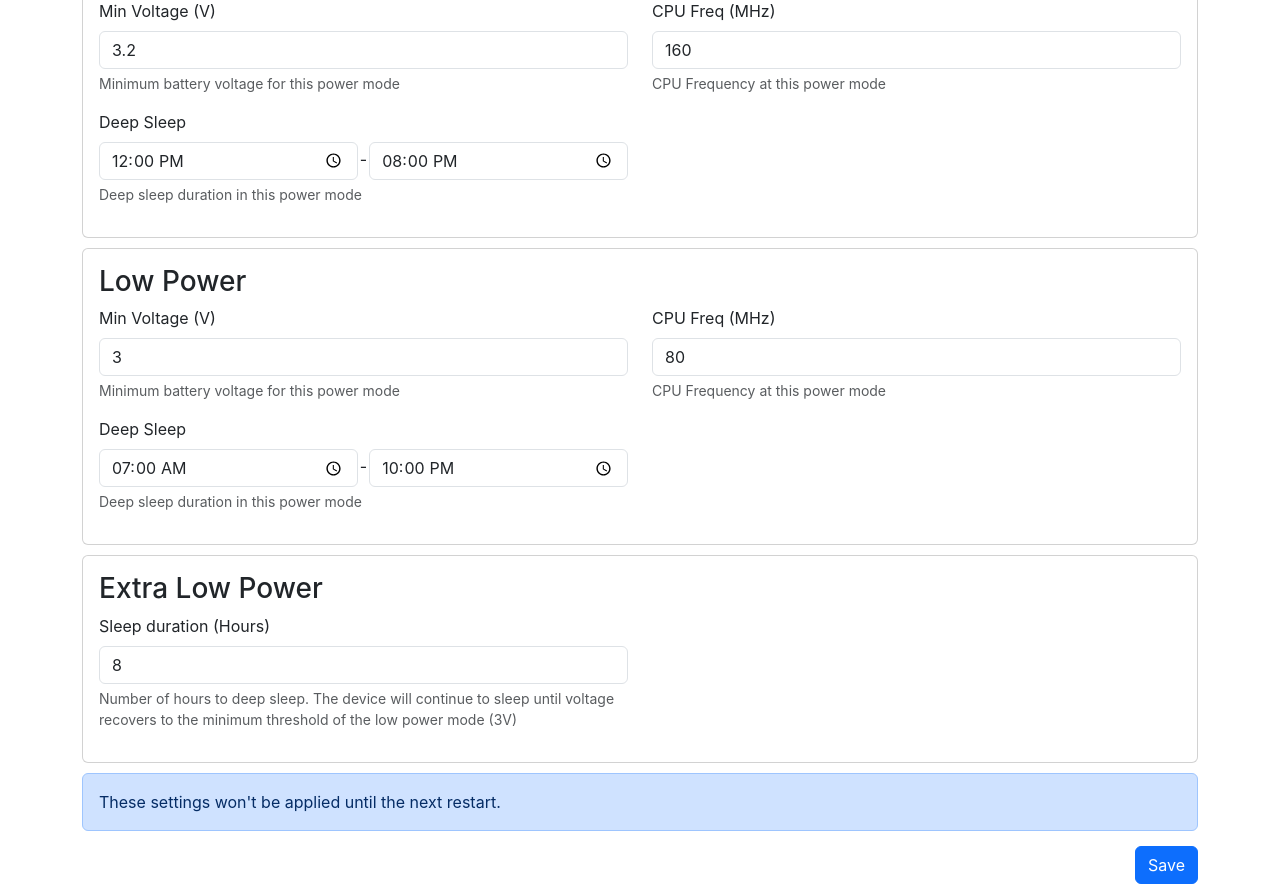
when saving › validation error when incorrect extra low power sleep
The width and height of the screenshot is (1280, 884).
(page scrolled)
Step 1. Clear the number field with test id "ex-low-power-sleep-duration" → (364, 665), box [99,646,628,684]
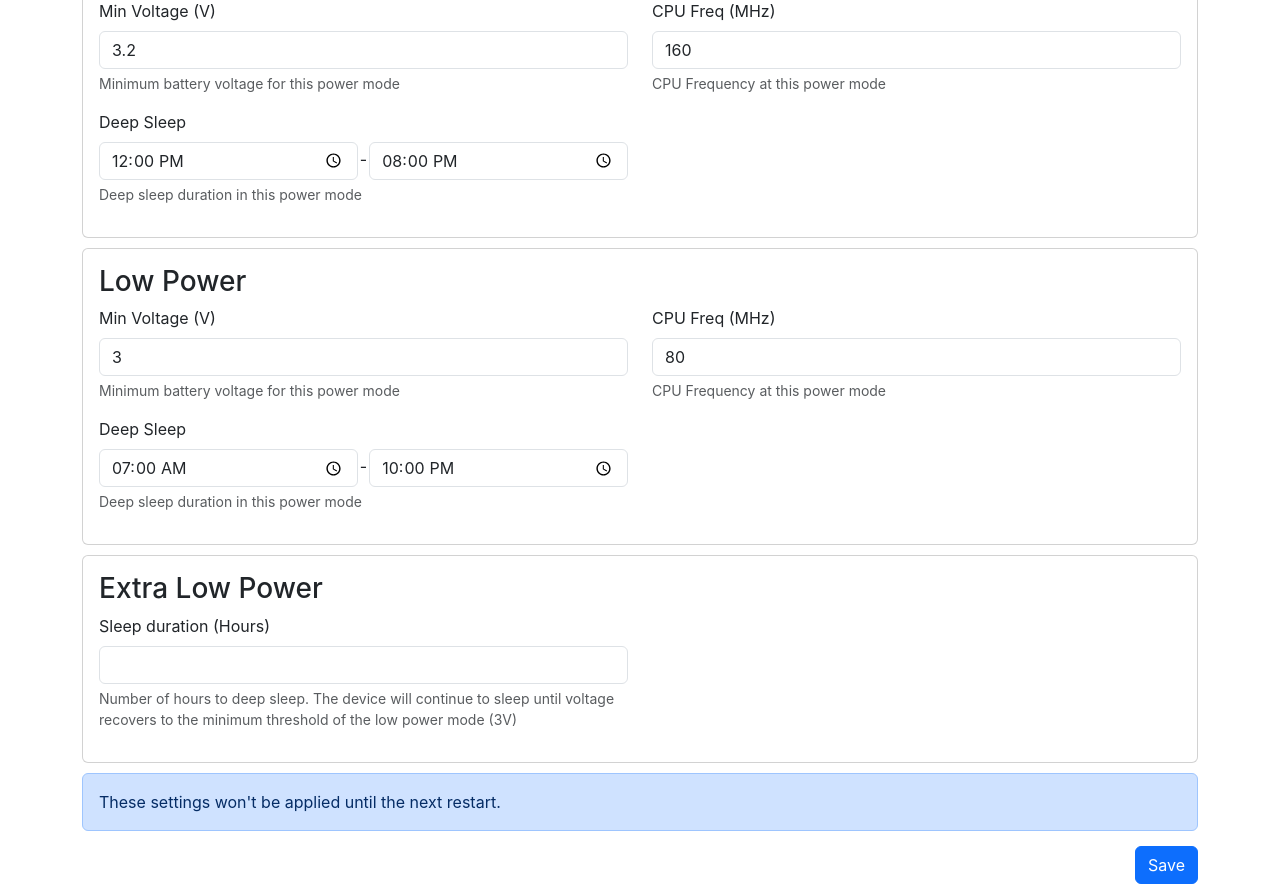
Step 2. Click the button with test id "save-button" → (1166, 865), box [1135,846,1198,883]
(page scrolled)
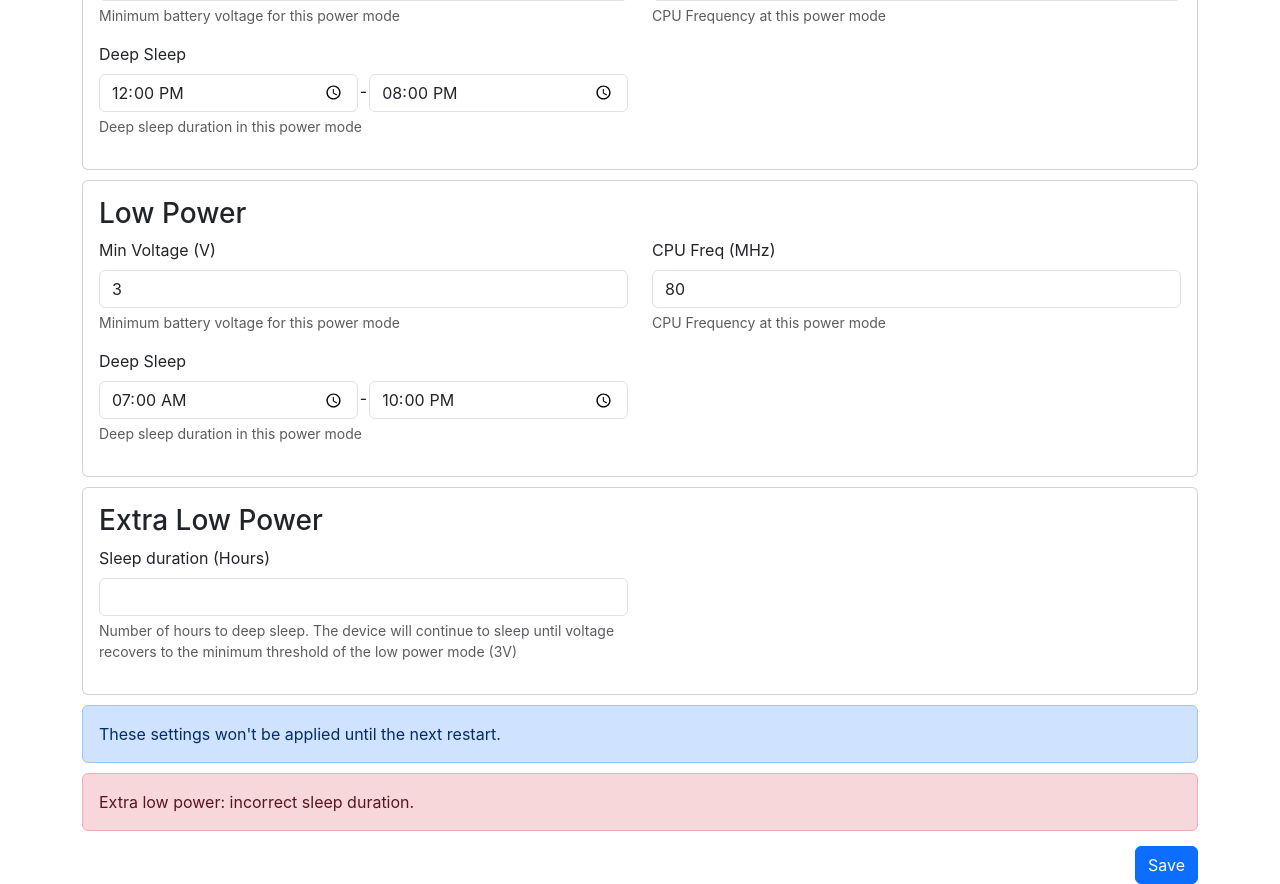
Now the element with test id "power-config-validation-error" shows "Extra low power: incorrect sleep duration", box [99,792,414,812]
